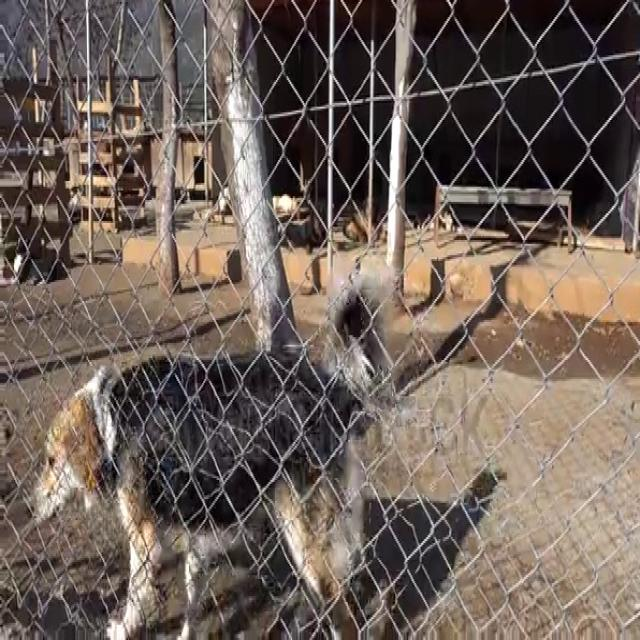normal_animals: (28, 395, 214, 634)
